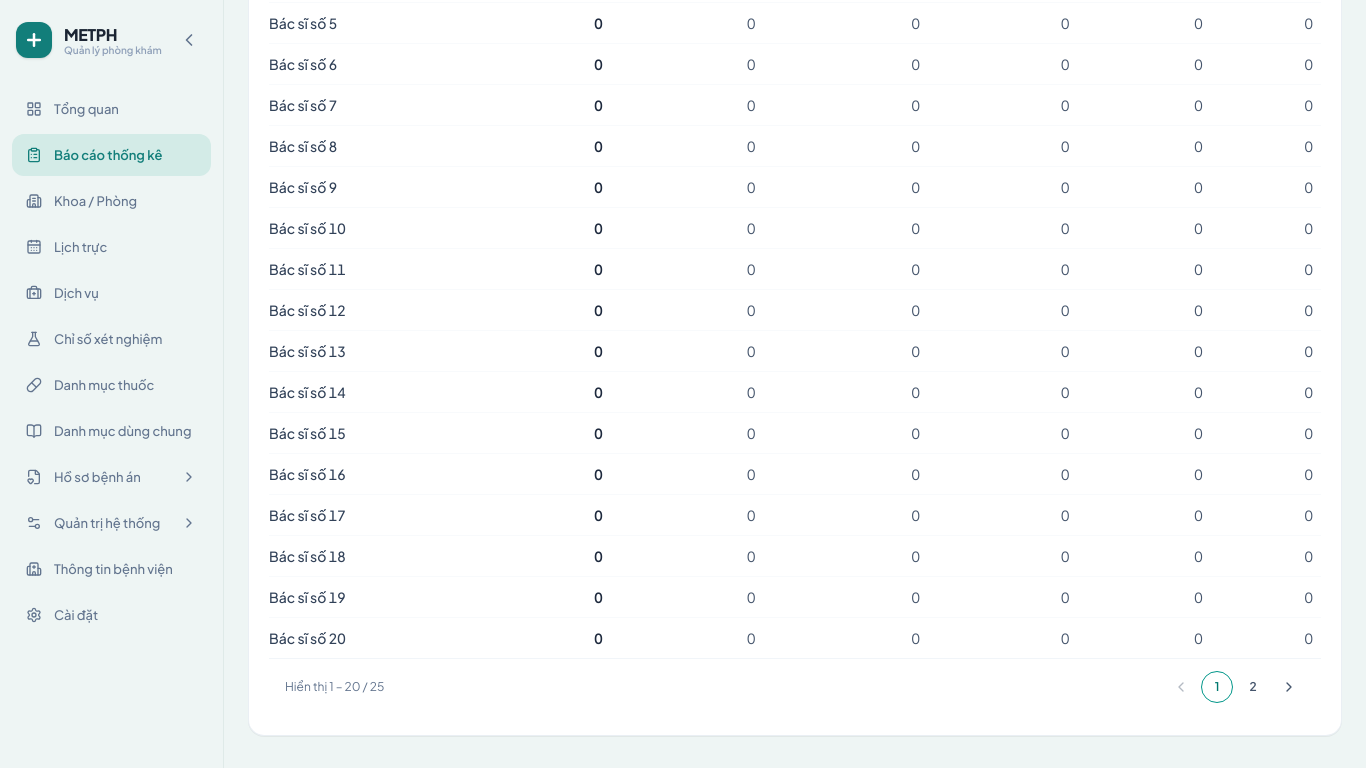
DoctorStatisticsPage (UC-28) › asks the server for one page of 20 doctors at a time
The image size is (1366, 768).
(page scrolled)
Expected: the text "Hiển thị 1 – 20 / 25" is shown, x1=285 y1=679 x2=384 y2=695
Expected: the column heading "Bác sĩ số 20" is shown, x1=269 y1=618 x2=457 y2=658
Click the button named "Trang 2" at (1253, 687), box x1=1237 y1=671 x2=1269 y2=703
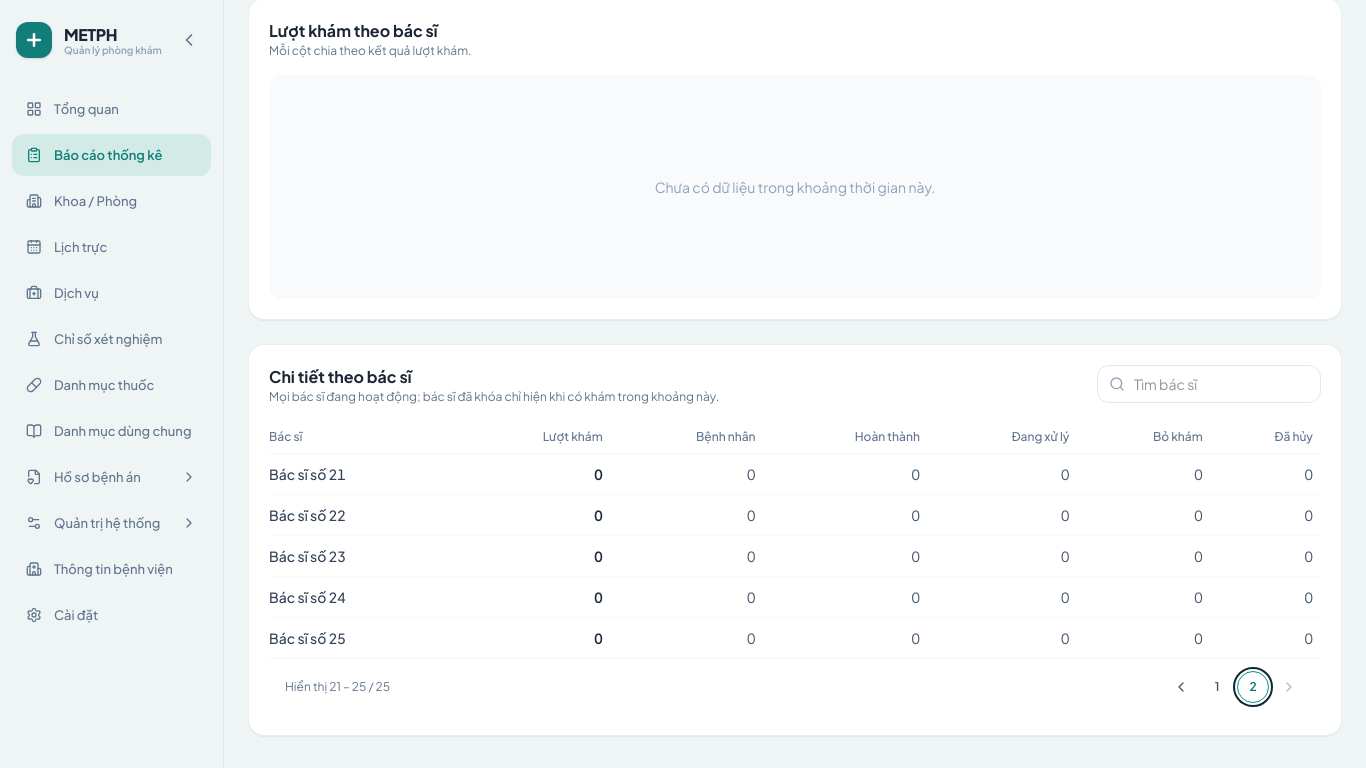
Result: the column heading "Bác sĩ số 21" is shown at x1=269 y1=454 x2=457 y2=494
Result: the column heading "Bác sĩ số 1" is gone
